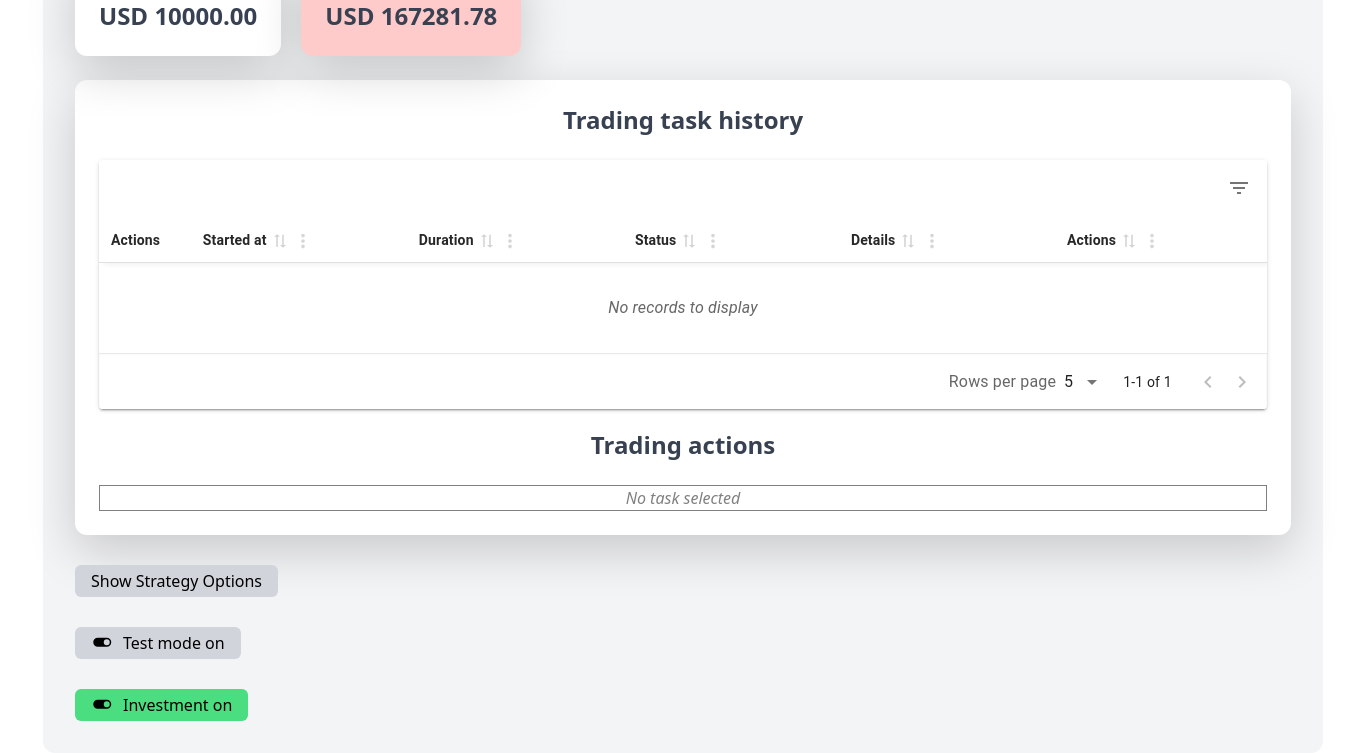
Test: handles switching investment
(page scrolled)
Click the button with test id "investment-on-button".
click(162, 705)  # box top-left (75, 689), bottom-right (248, 721)
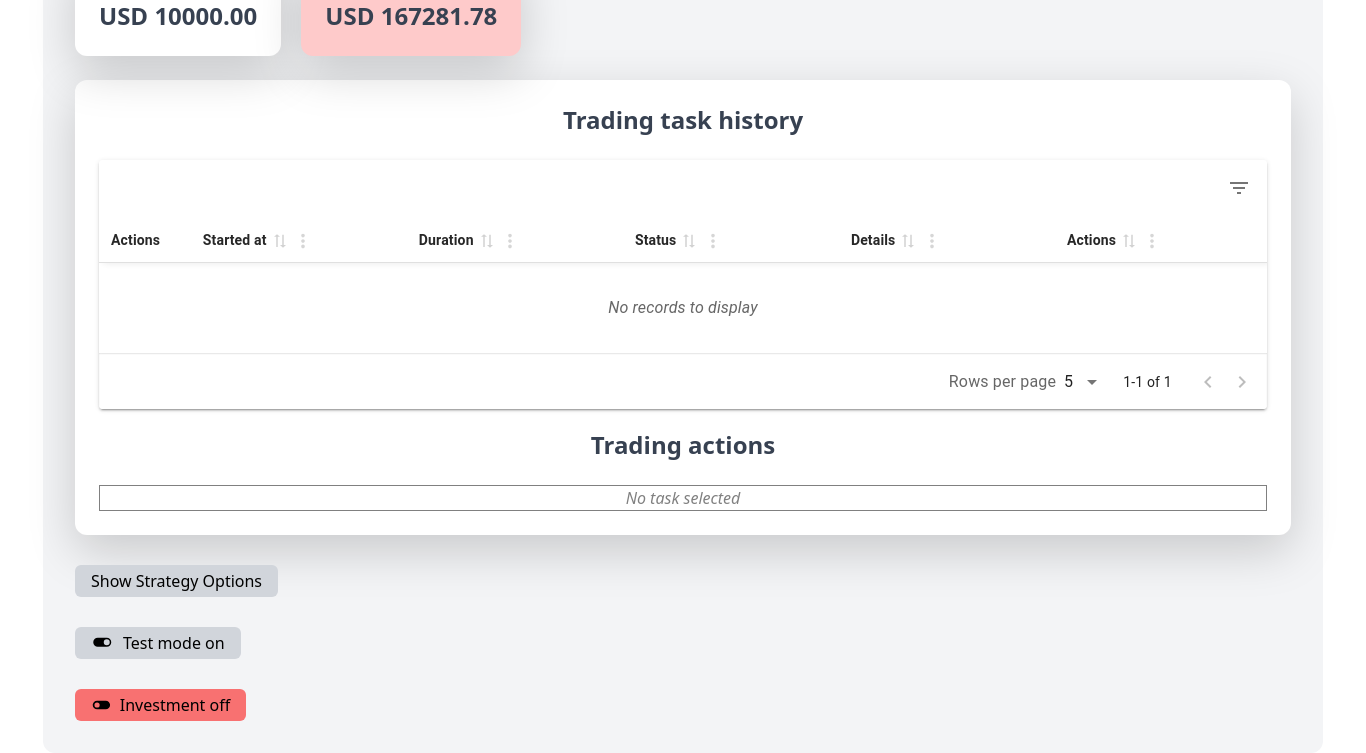
Check: the button with test id "investment-off-button" is shown, box top-left (75, 689), bottom-right (246, 721)
